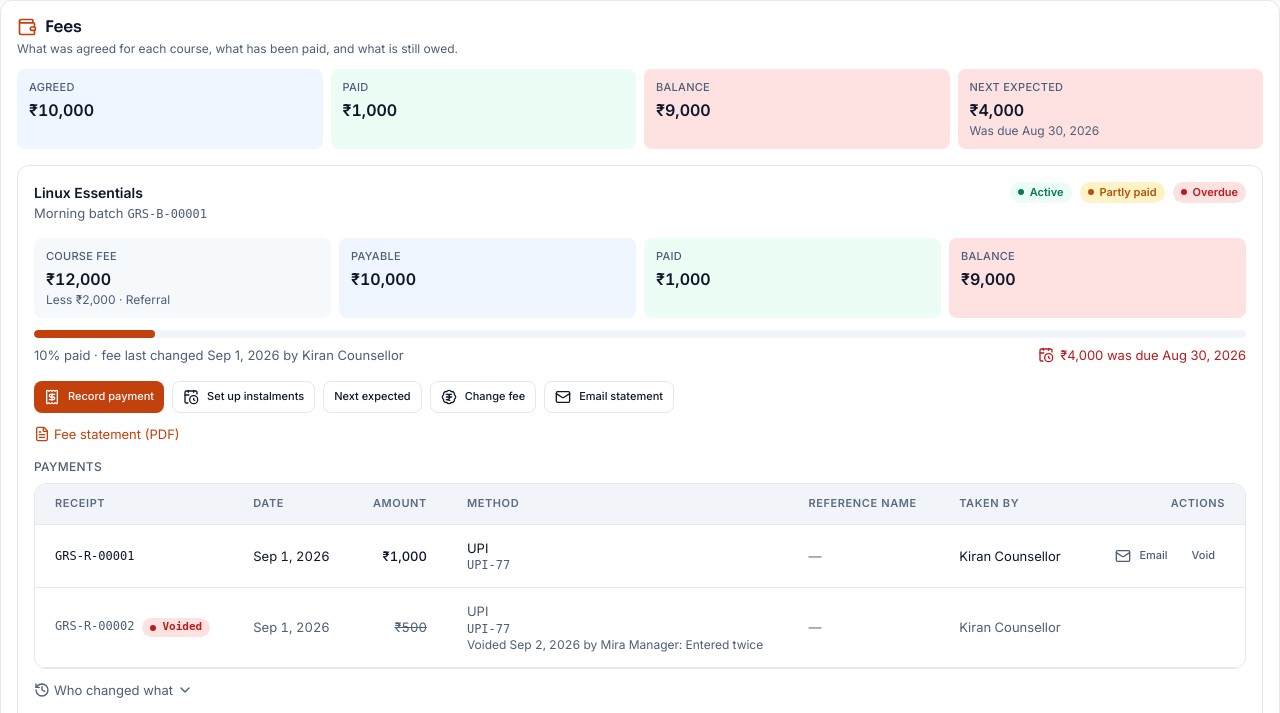
Test: FeeLedger › says why a payment was refused when the reason is not about a field
Click the button "Record payment".
click(99, 397)  # box [34,381,164,413]
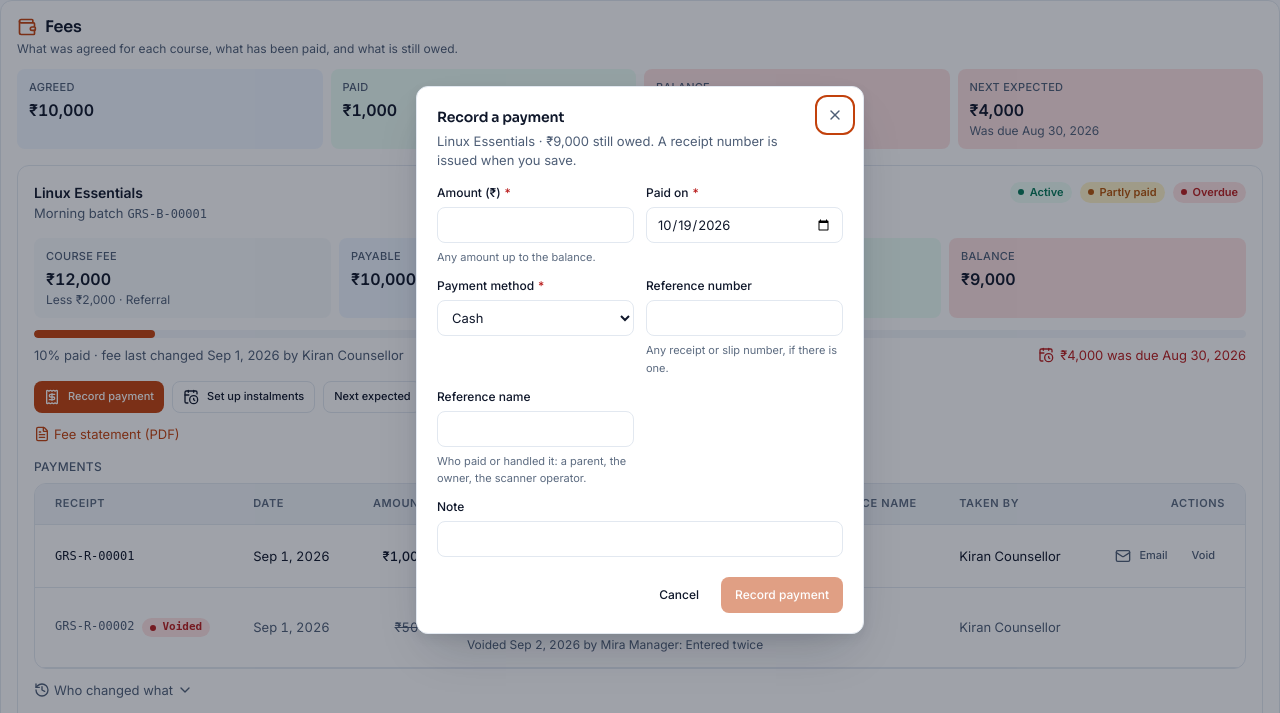
Type "500" into the number field labelled "Amount (₹)*".
click(536, 225); type("500")  # box [437,207,634,243]
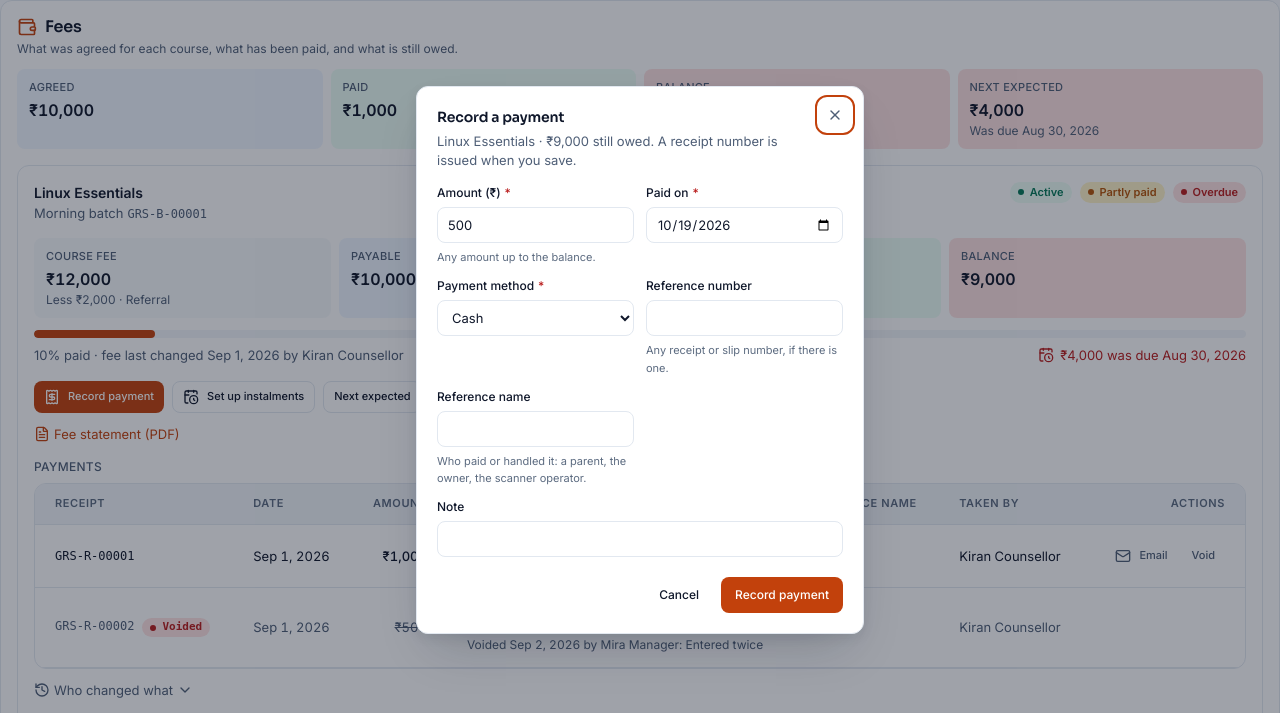
Click the button "Record payment".
click(782, 595)  # box [721,577,843,613]
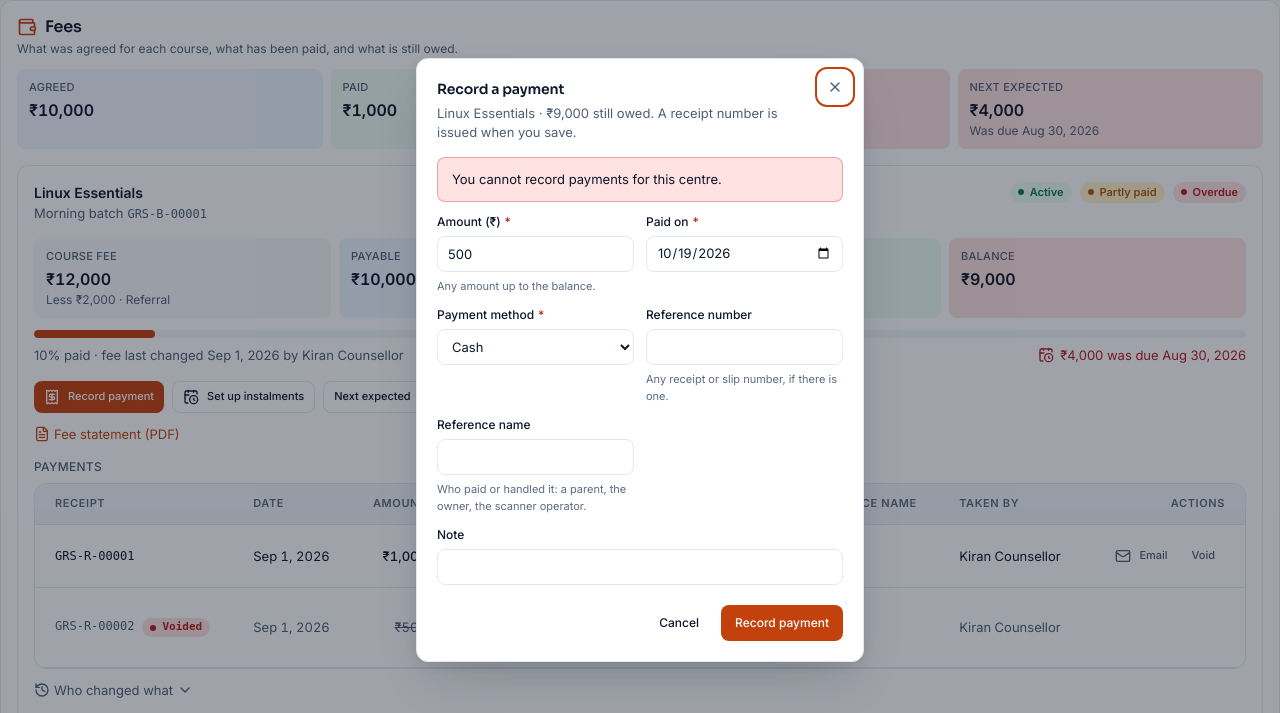
Now the text "You cannot record payments for this centre." is shown, box [437,157,843,202]
